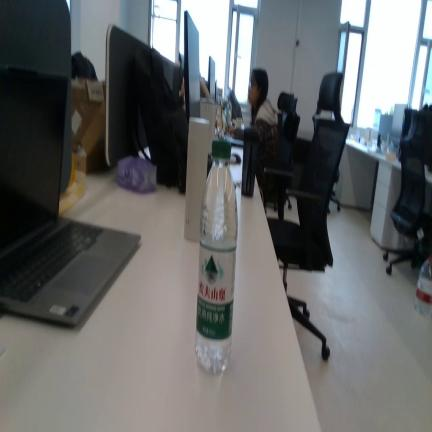bottle: (195, 139, 238, 373), (415, 254, 432, 318)
